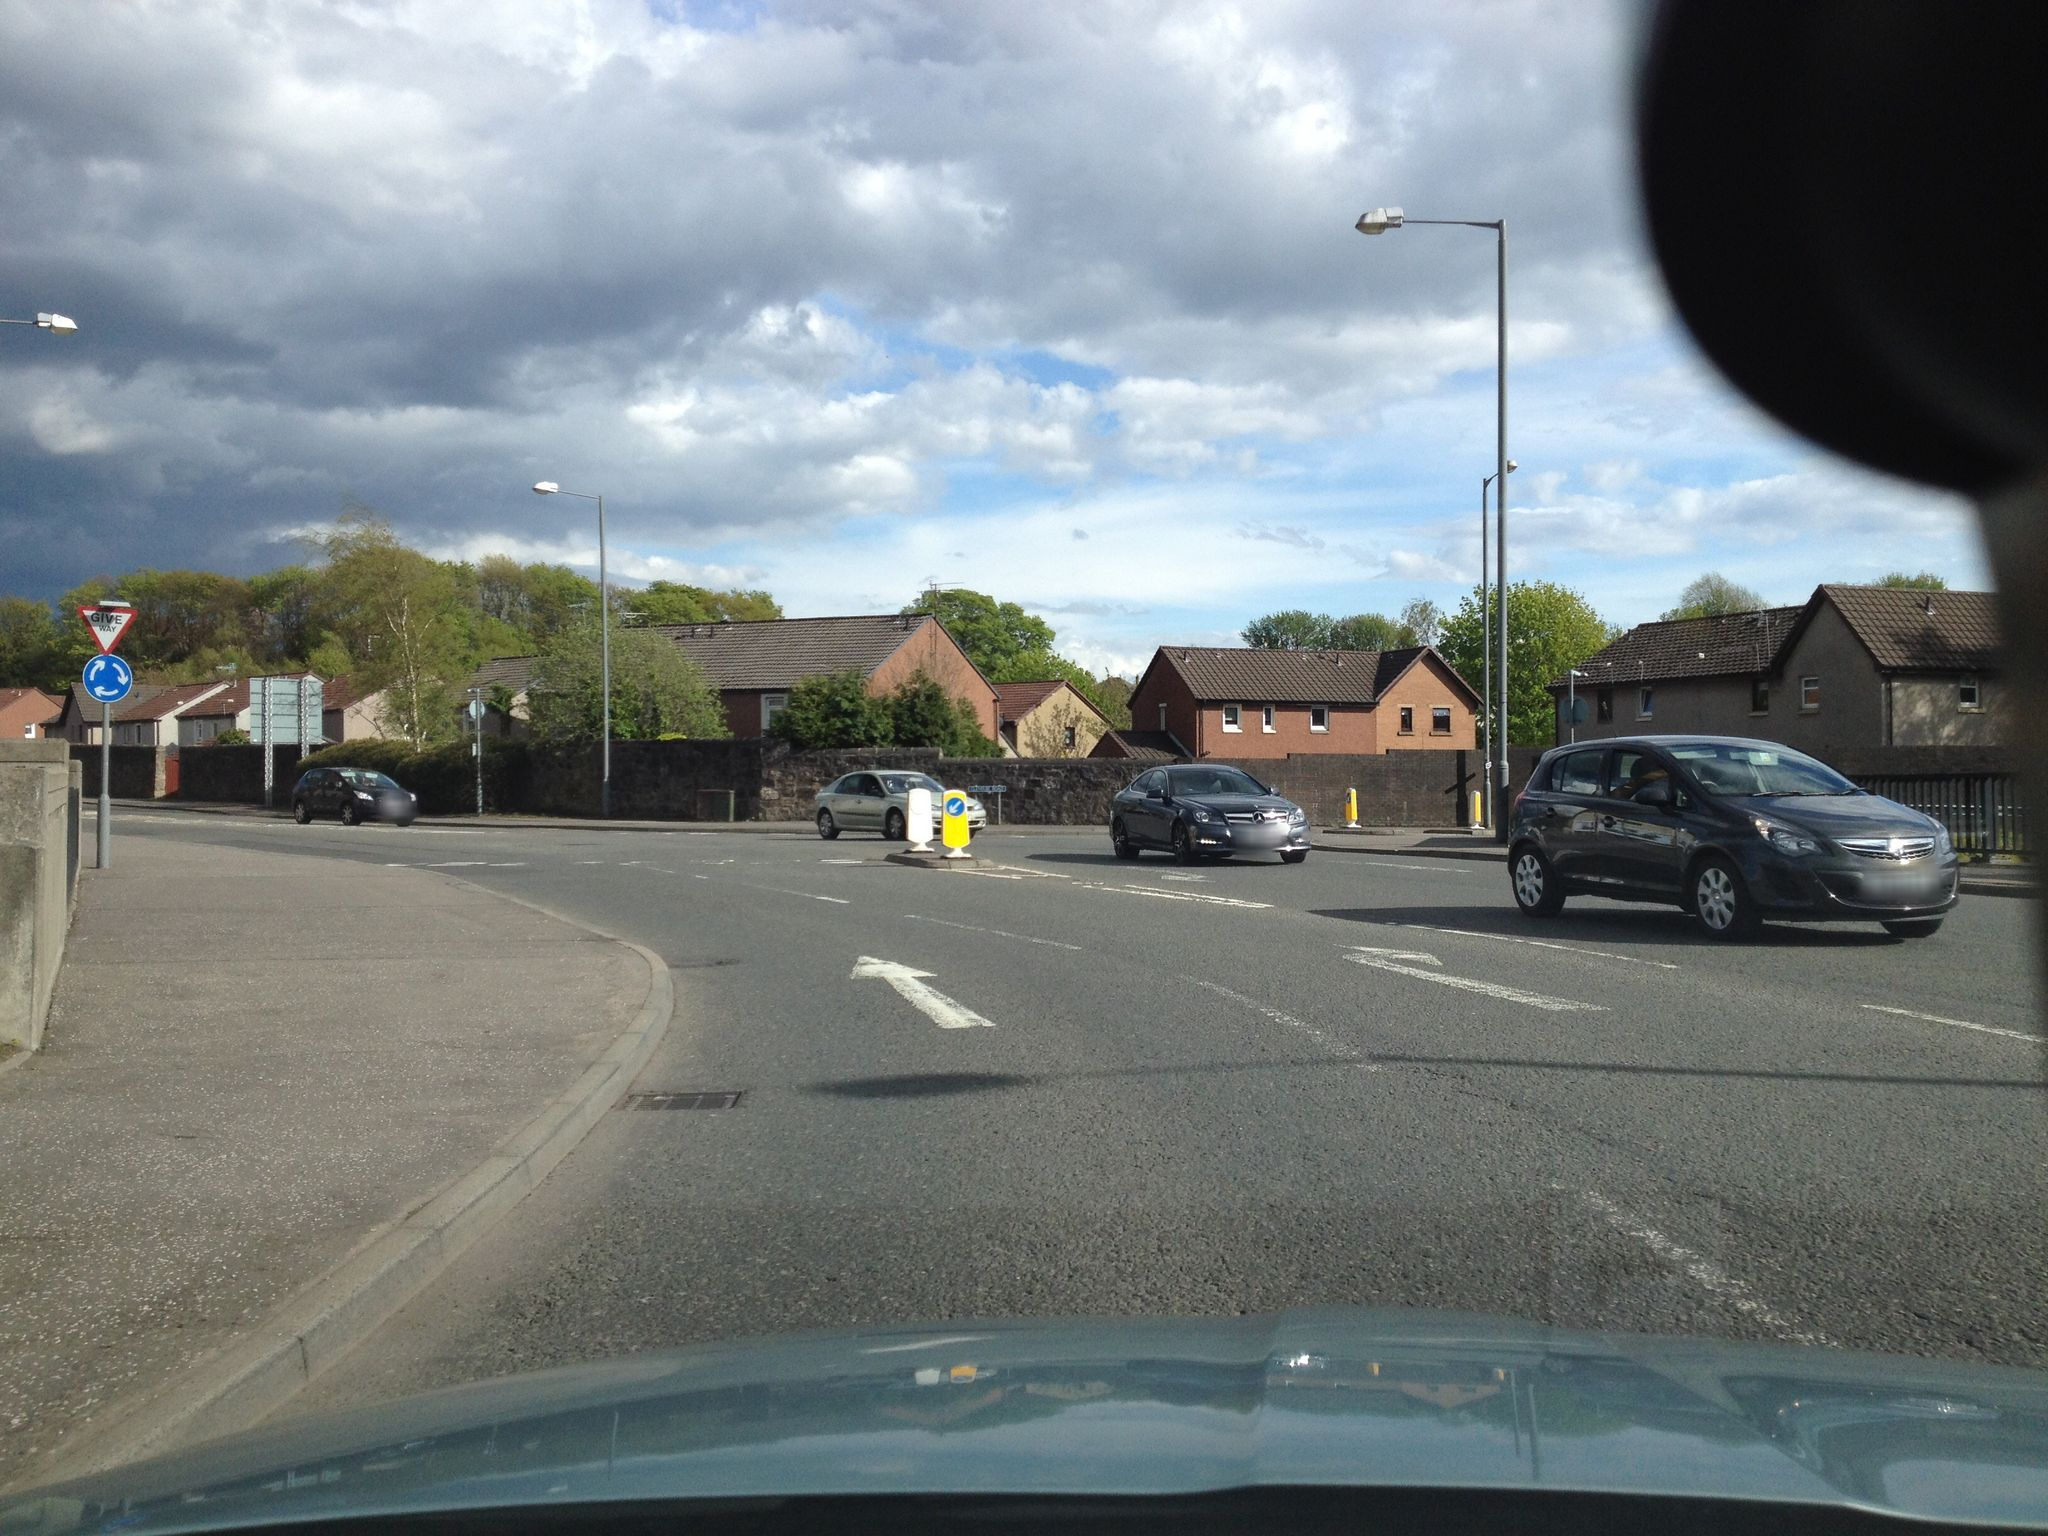car: (1508, 734, 1963, 937), (1109, 763, 1311, 863), (814, 770, 985, 841), (290, 765, 418, 824)
